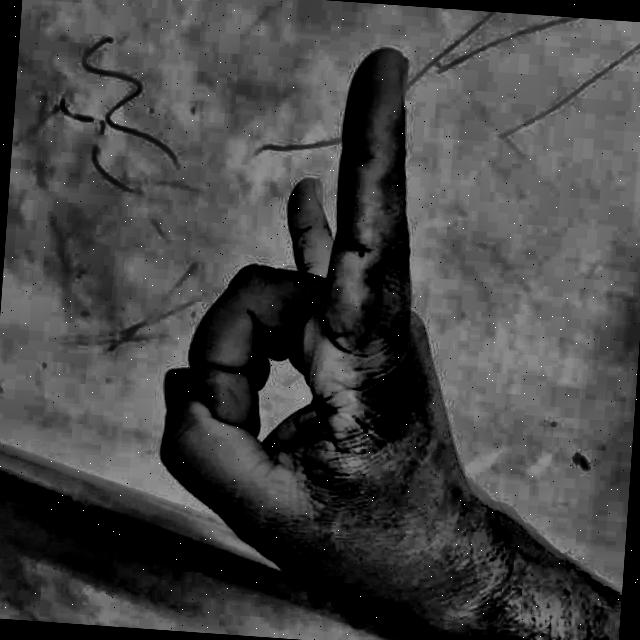Cha: (105, 29, 578, 640)
